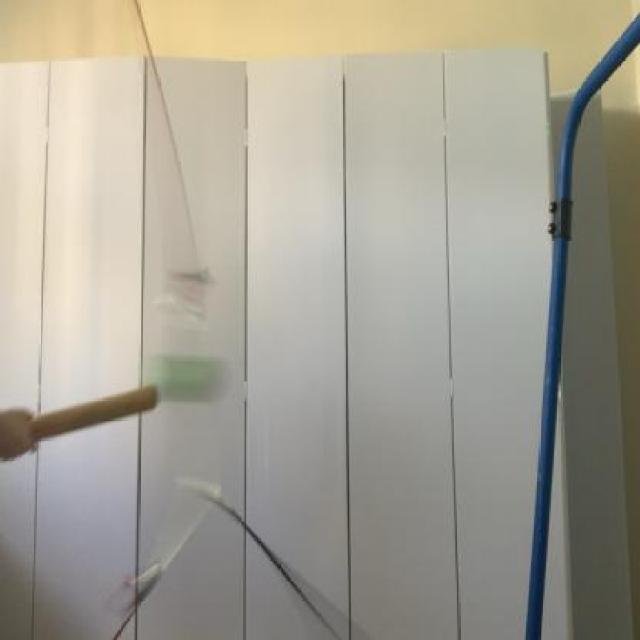baseball: (157, 345, 228, 410)
